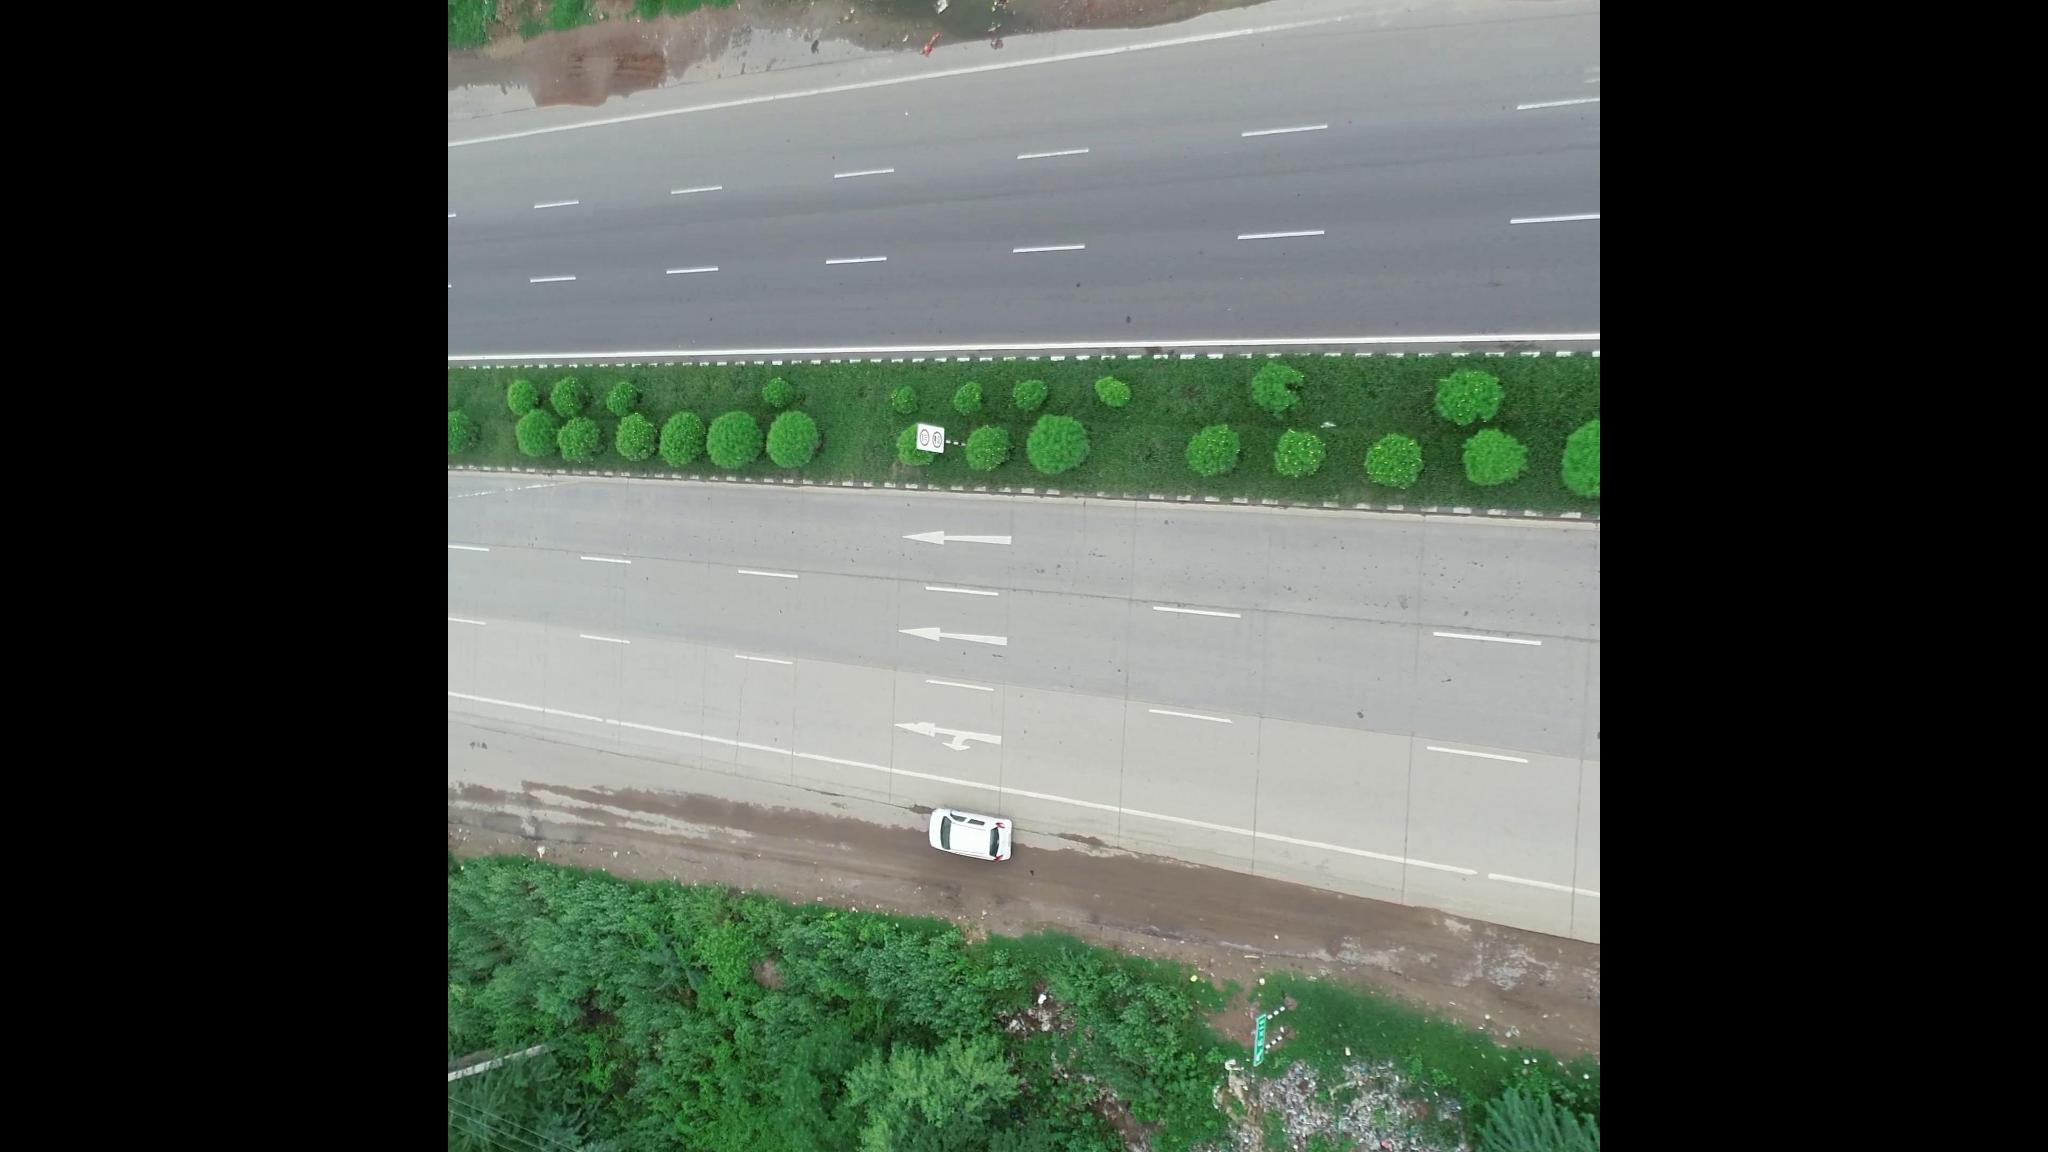Road_side_garbage: (1165, 1047, 1459, 1152)
